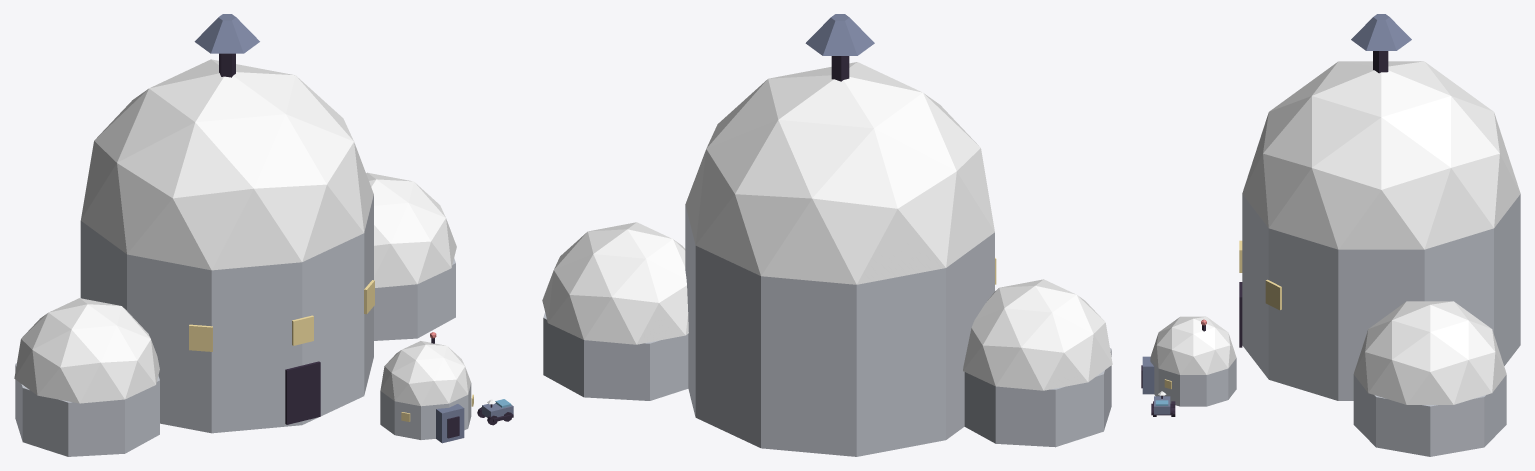
Rendered from moon-g2.glb.
The picture shows the model from 3 angles, left to right: view 1: azimuth 30°, elevation 25°; view 2: azimuth 150°, elevation 25°; view 3: azimuth 270°, elevation 25°; orthographic projection. The views are drawn at different scales.
Visible parts, largest first — view 1: moon-g2; view 2: moon-g2; view 3: moon-g2.
Part boxes in pixels (x1,y1,x2,y2): moon-g2: [14, 14, 513, 456]; moon-g2: [542, 14, 1112, 456]; moon-g2: [1141, 14, 1520, 456].
Bounding box in the file's own units: 3.65 × 2.6 × 2.73.
